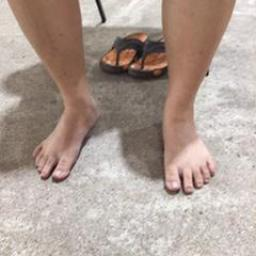Front View -Both Feet-: (21, 72, 224, 214)
